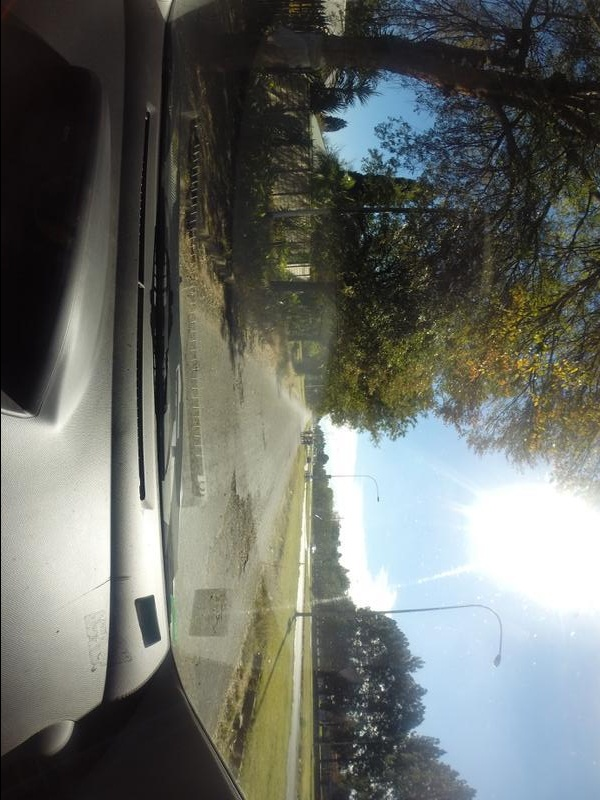pothole: (203, 470, 262, 589), (197, 594, 232, 646), (232, 361, 249, 422), (257, 413, 270, 463)
